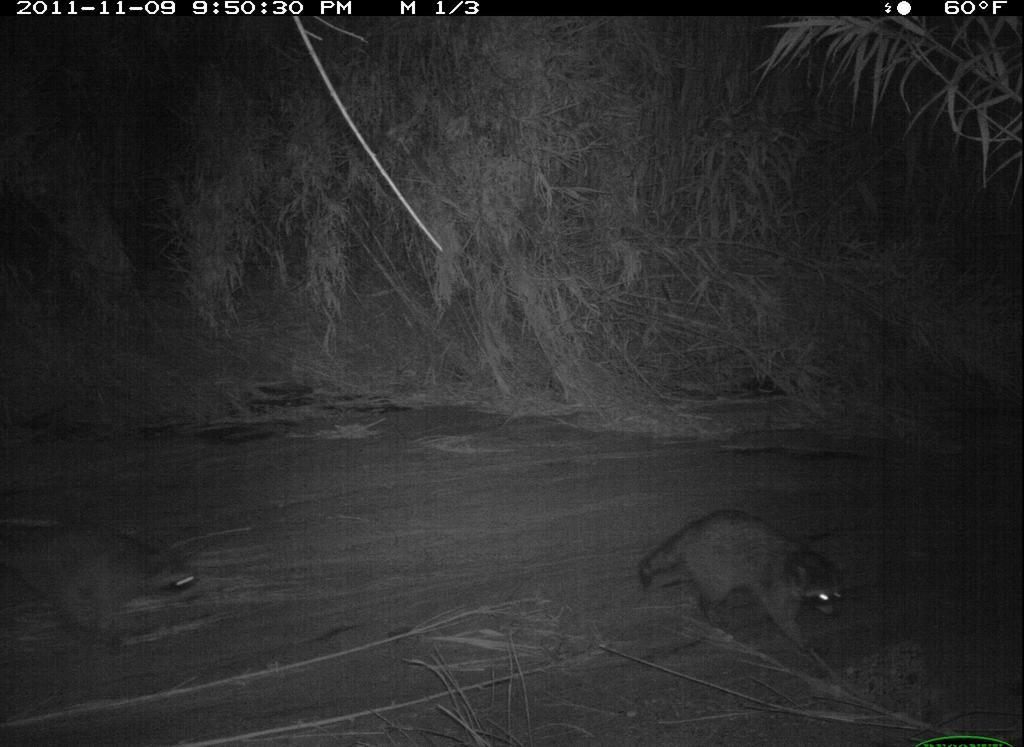raccoon: (638, 492, 861, 661), (4, 507, 218, 658)
